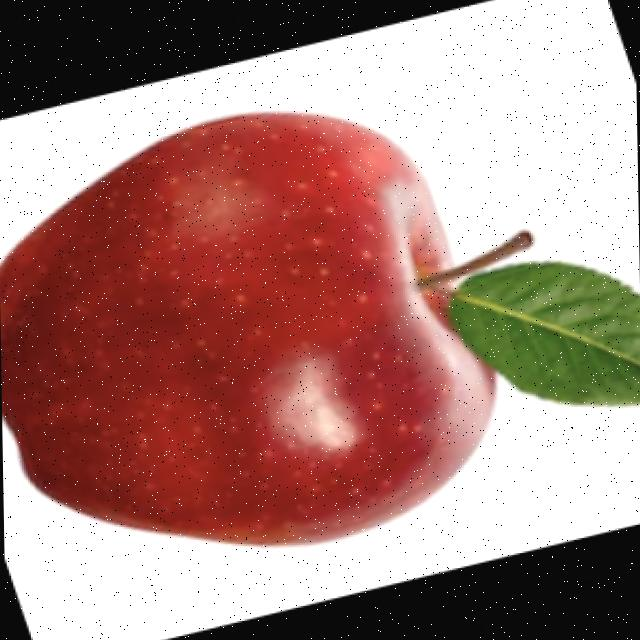Ripe: (0, 101, 505, 556)
